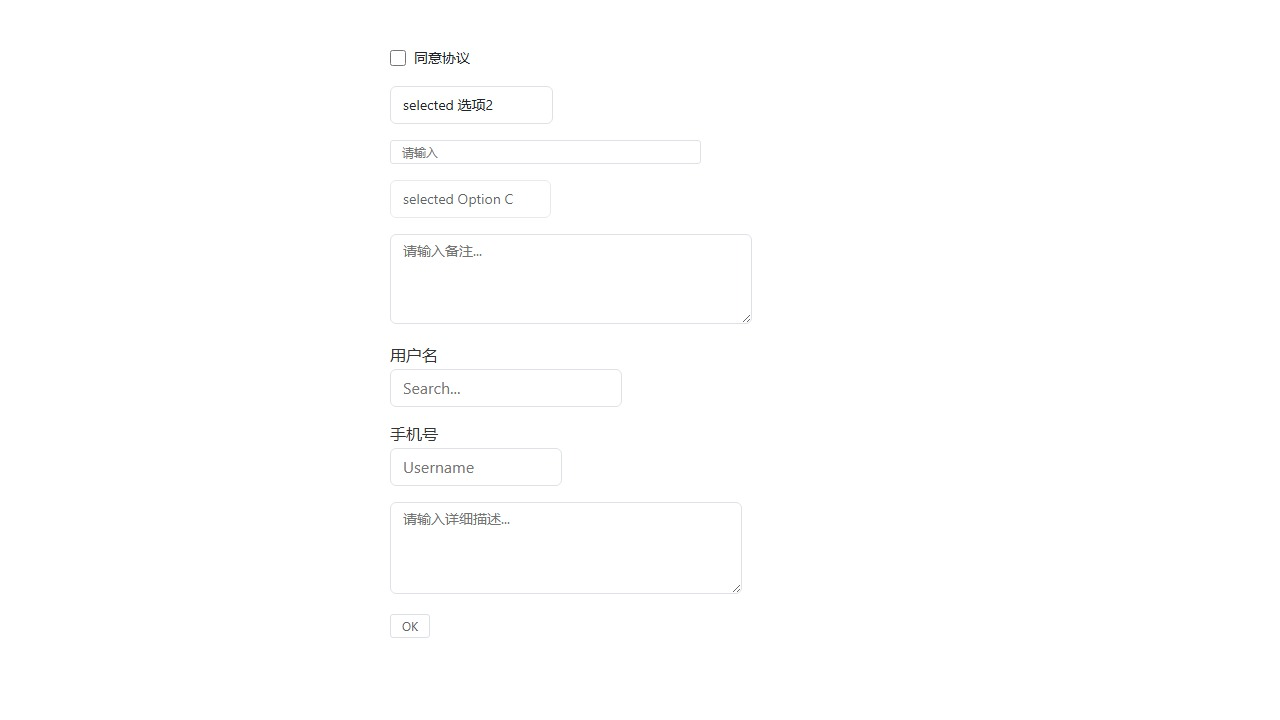button: (390, 614, 430, 637)
checkbox: (390, 50, 406, 65)
icon: (414, 48, 470, 67)
input: (390, 368, 622, 406), (390, 140, 701, 164), (390, 448, 562, 486)
radio: (390, 48, 470, 67)
select: (390, 86, 553, 124), (390, 179, 551, 217)
textarea: (390, 234, 752, 324), (390, 502, 742, 594)
